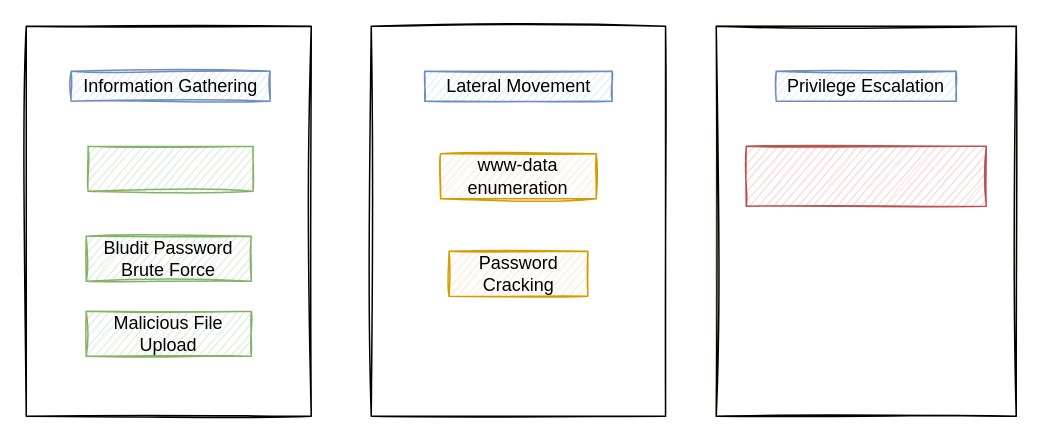
This 1043x443 diagram has some shape labels left out. The shapes that lost their labels are listed below. From the top down, each one's box as (x1, y1, x2, y2) in pixels, then its label:
(87, 145, 253, 191): Web Enumeration
(745, 145, 986, 206): Sudo Exploitation
